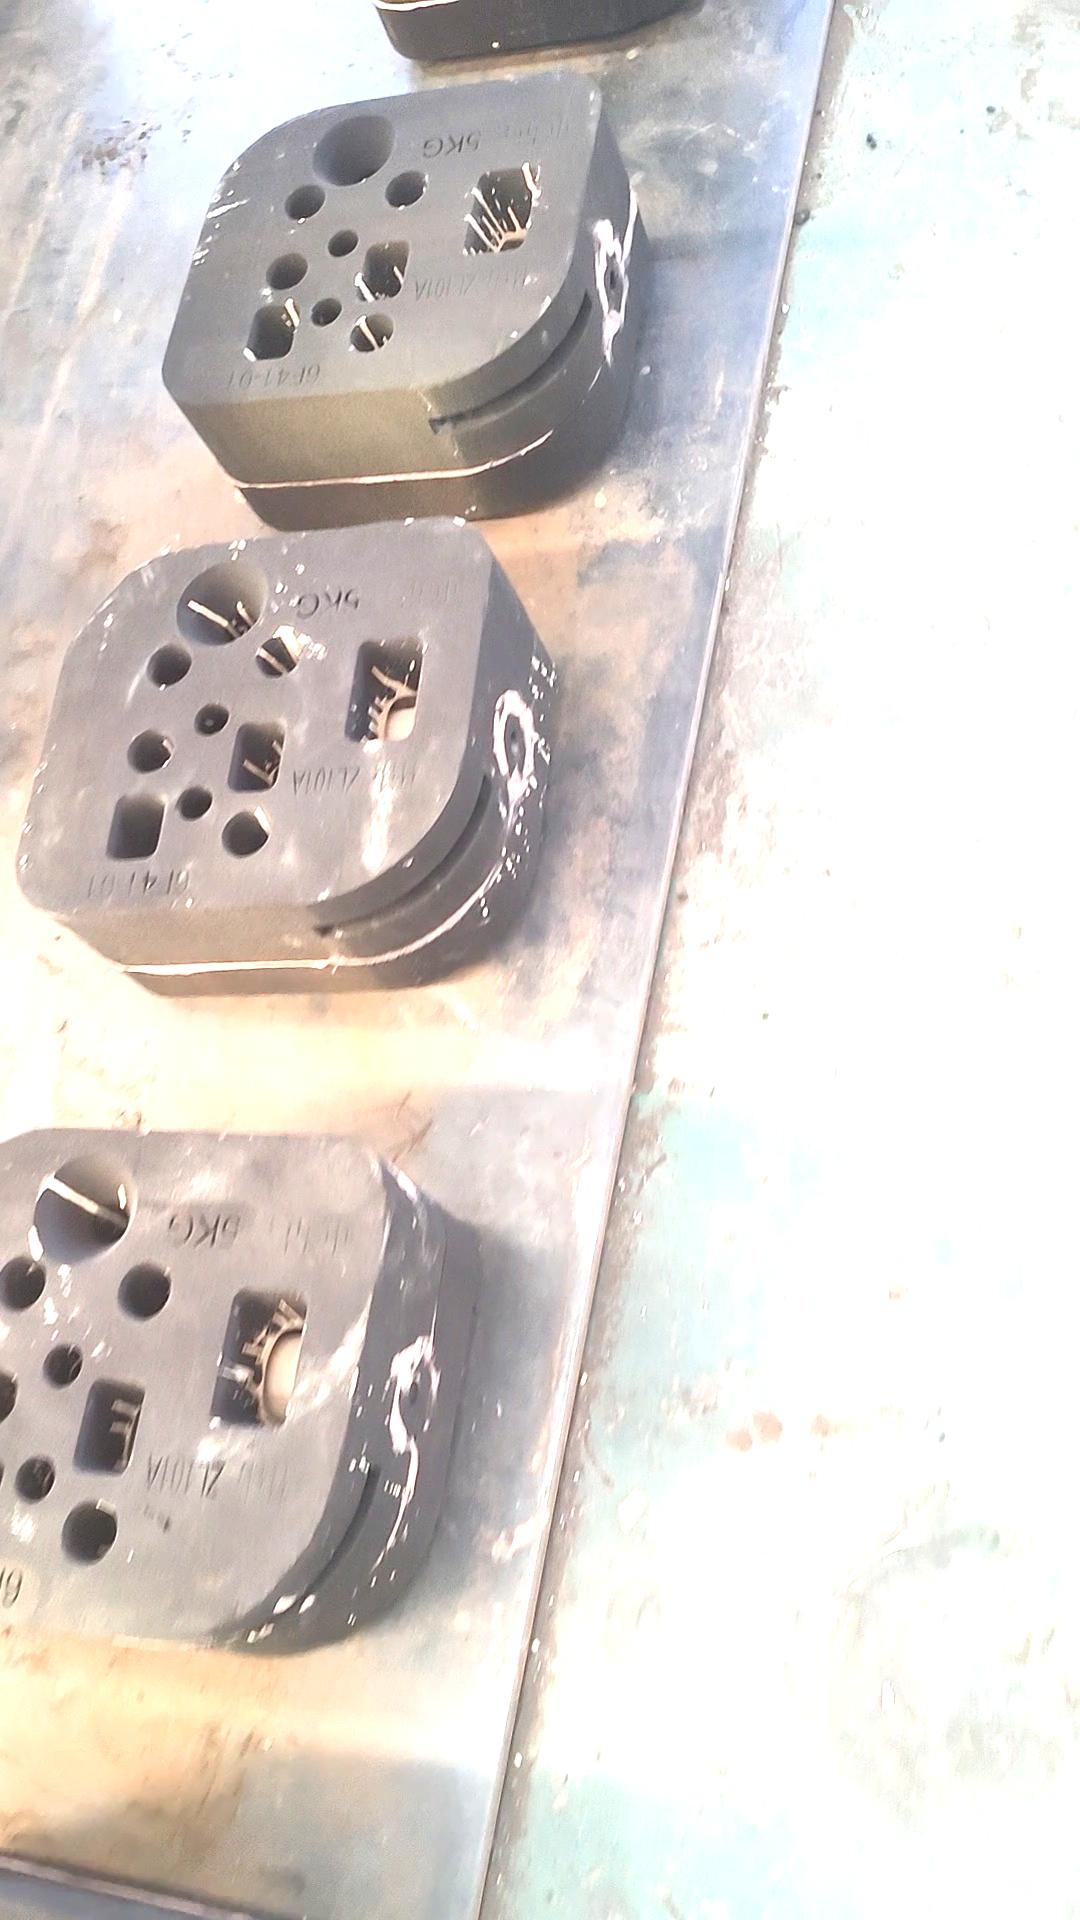pouring hole: (34, 1151, 137, 1265), (175, 559, 268, 645), (310, 115, 396, 187)
